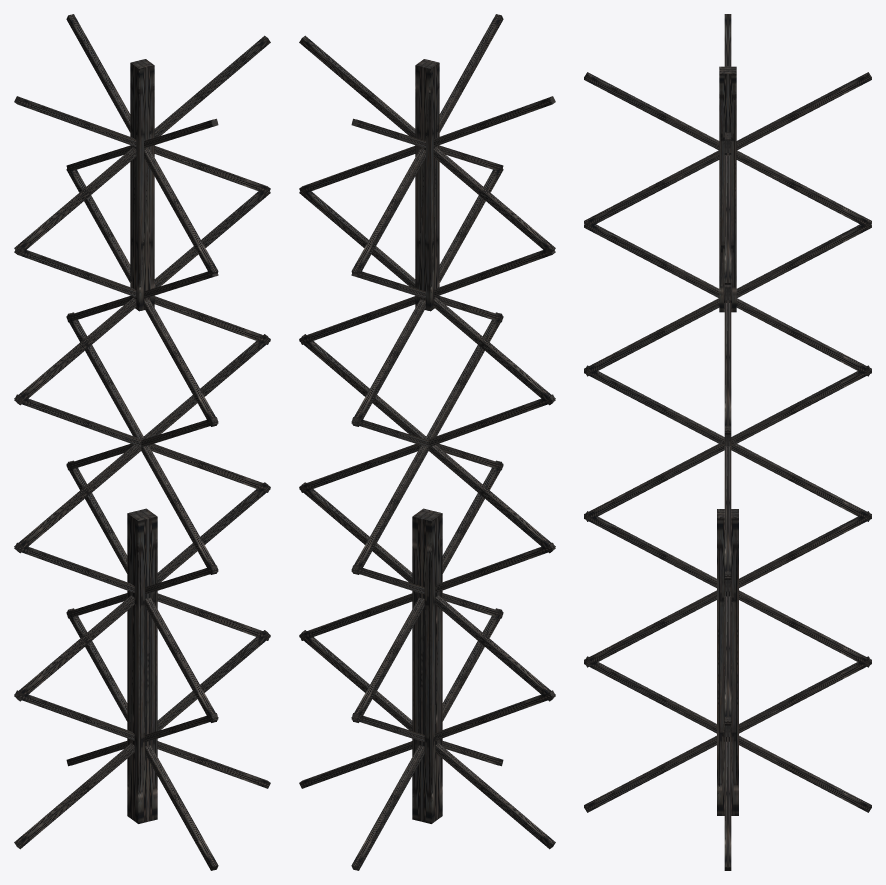
The model's file is Environment 1_20 scale.fbx.
3 views of the same model, side by side, from view 1: azimuth 30°, elevation 25°; view 2: azimuth 150°, elevation 25°; view 3: azimuth 270°, elevation 25° (orthographic).
Parts seen in each view (by area): view 1: Pillar, Pillar__1_, Pillar__2__4, Pillar__2__2, Pillar__2__3, Pillar__2_, Pillar__2__1, Pillar__5__2, Pillar__5__4, Pillar__5__3, Pillar__5_, Pillar__5__1 (+10 smaller); view 2: Pillar, Pillar__1_, Pillar__2__4, Pillar__2__2, Pillar__2__3, Pillar__2_, Pillar__2__1, Pillar__4__2, Pillar__4__4, Pillar__4__3, Pillar__4_, Pillar__4__1 (+10 smaller); view 3: Pillar, Pillar__1_, Pillar__5__2, Pillar__4__2, Pillar__4__4, Pillar__5__4, Pillar__4__3, Pillar__5__3, Pillar__5_, Pillar__4_, Pillar__5__1, Pillar__4__1 (+5 smaller).
Part boxes in pixels (x1,y1,x2,y2): Pillar: (127,508,157,823); Pillar__1_: (130,59,154,311); Pillar__2__4: (14,35,270,254); Pillar__2__2: (14,334,270,553); Pillar__2__3: (14,189,270,405); Pillar__2_: (14,630,270,849); Pillar__2__1: (14,482,270,701); Pillar__5__2: (66,312,218,574); Pillar__5__4: (66,14,218,274); Pillar__5__3: (66,167,218,426); Pillar__5_: (66,608,218,870); Pillar__5__1: (66,460,218,722); Pillar: (412,508,442,823); Pillar__1_: (415,59,439,311); Pillar__2__4: (299,35,555,253); Pillar__2__2: (299,334,555,553); Pillar__2__3: (299,189,555,405); Pillar__2_: (299,630,555,849); Pillar__2__1: (299,482,555,701); Pillar__4__2: (351,312,503,574); Pillar__4__4: (351,14,503,274); Pillar__4__3: (351,166,503,426); Pillar__4_: (351,608,503,870); Pillar__4__1: (351,460,503,722); Pillar: (717,509,738,815); Pillar__1_: (719,66,736,312); Pillar__5__2: (584,365,871,521); Pillar__4__2: (584,365,871,521); Pillar__4__4: (584,72,871,228); Pillar__5__4: (584,72,871,227); Pillar__4__3: (584,223,871,376); Pillar__5__3: (584,223,871,376); Pillar__5_: (584,656,871,812); Pillar__4_: (584,656,871,812); Pillar__5__1: (584,511,871,667); Pillar__4__1: (584,511,871,667).
Bounding box in the file's own units: 6570 × 18675 × 6570.
2 materials, 2 textured.
